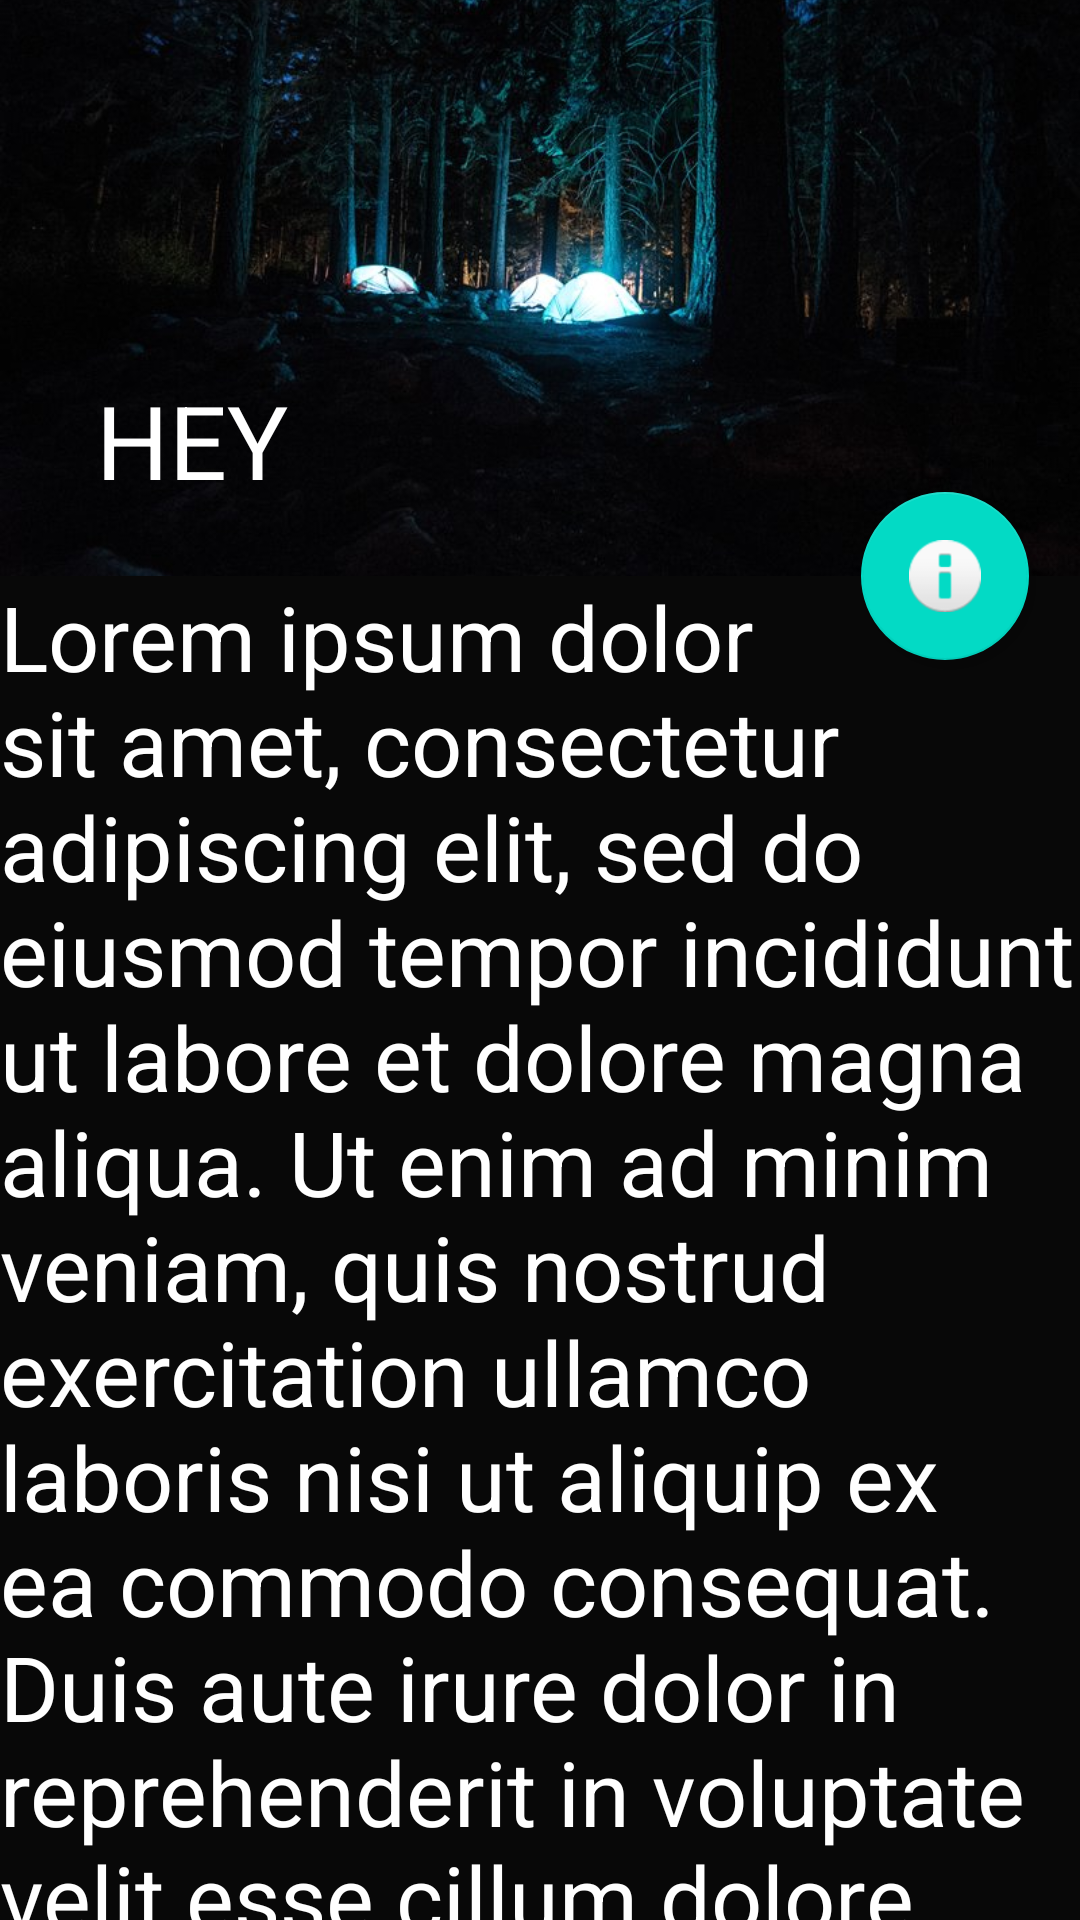

Icon bounding boxes for this 1080*1920 phone screenshot, format (x1, y1, x2, y2):
info: (861, 492, 1029, 660)
